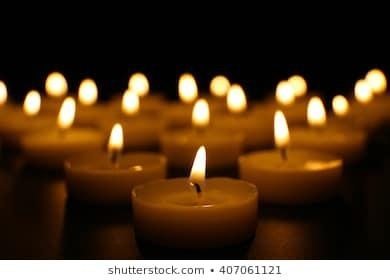fire: (353, 67, 388, 105), (121, 69, 150, 113), (186, 142, 207, 186), (271, 109, 290, 151), (56, 95, 78, 130), (105, 120, 125, 157), (305, 93, 326, 126), (192, 98, 210, 126)
